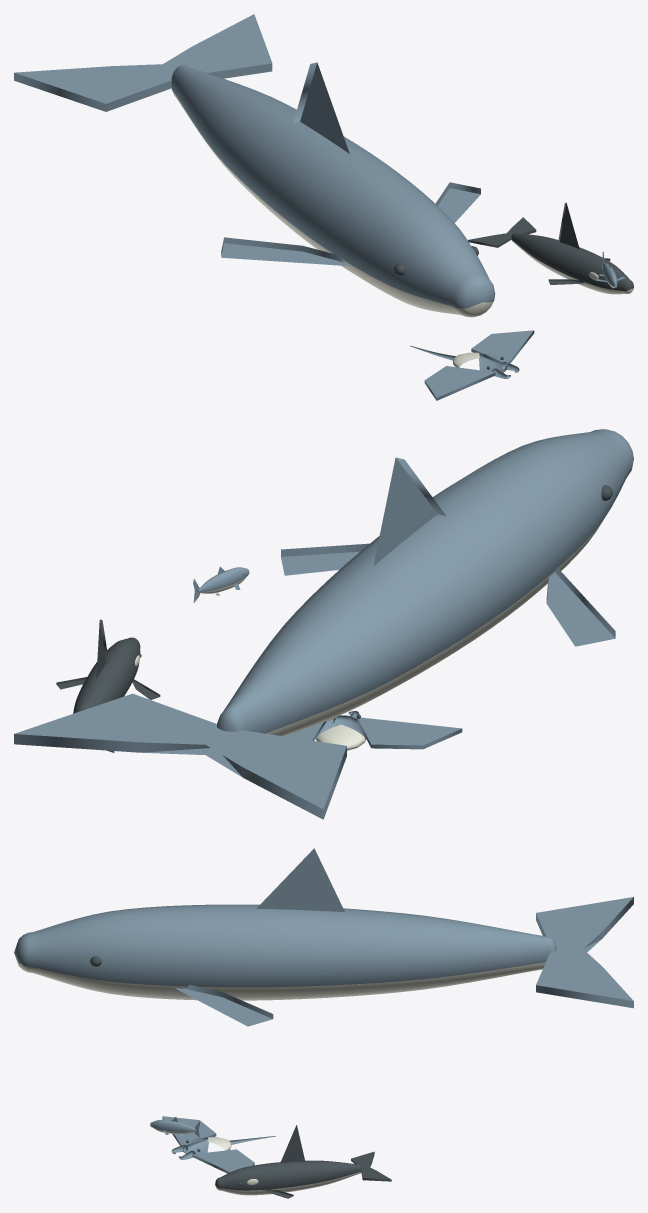
File: jellyfish.glb
The picture shows the model from 3 angles, top to bottom: view 1: azimuth 30°, elevation 25°; view 2: azimuth 150°, elevation 25°; view 3: azimuth 270°, elevation 25°; orthographic projection. The views are drawn at different scales.
Visible parts, largest first — view 1: 000-blue-whale/0, 001-orca/0, 003-manta-ray/0, 000-blue-whale/1; view 2: 000-blue-whale/0, 001-orca/0, 003-manta-ray/0, 000-blue-whale/1, 002-bluefin-tuna/0, 003-manta-ray/1; view 3: 000-blue-whale/0, 000-blue-whale/1, 001-orca/0, 003-manta-ray/0, 001-orca/1.
Boxes of the visible parts, x1=… form: 000-blue-whale/0: x1=14, y1=14, x2=495, y2=308; 001-orca/0: x1=468, y1=202, x2=633, y2=291; 003-manta-ray/0: x1=410, y1=330, x2=534, y2=400; 000-blue-whale/1: x1=172, y1=91, x2=493, y2=317; 000-blue-whale/0: x1=14, y1=429, x2=633, y2=819; 001-orca/0: x1=56, y1=619, x2=160, y2=752; 003-manta-ray/0: x1=284, y1=711, x2=462, y2=749; 000-blue-whale/1: x1=266, y1=472, x2=630, y2=736; 002-bluefin-tuna/0: x1=193, y1=566, x2=249, y2=602; 003-manta-ray/1: x1=316, y1=724, x2=365, y2=750; 000-blue-whale/0: x1=14, y1=848, x2=633, y2=1026; 000-blue-whale/1: x1=14, y1=954, x2=545, y2=1000; 001-orca/0: x1=215, y1=1125, x2=391, y2=1198; 003-manta-ray/0: x1=162, y1=1116, x2=275, y2=1173; 001-orca/1: x1=215, y1=1171, x2=361, y2=1195.
Size of the model in its own units: 17.05 by 11.47 by 25.
